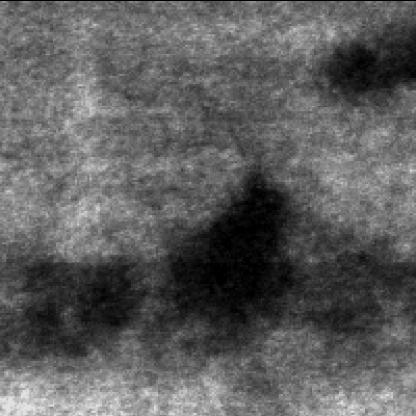patches: (160, 183, 343, 343), (27, 258, 129, 339), (318, 30, 414, 94)
